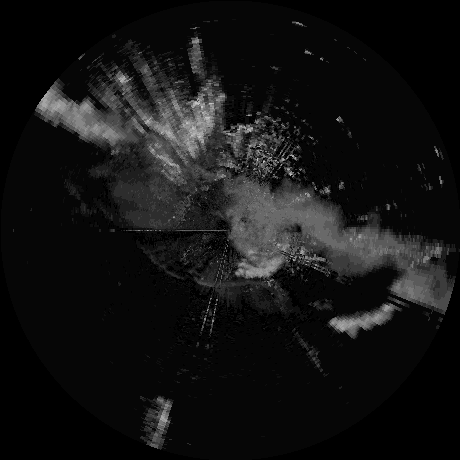frontgust: (141, 247, 183, 281), (194, 275, 267, 288)
